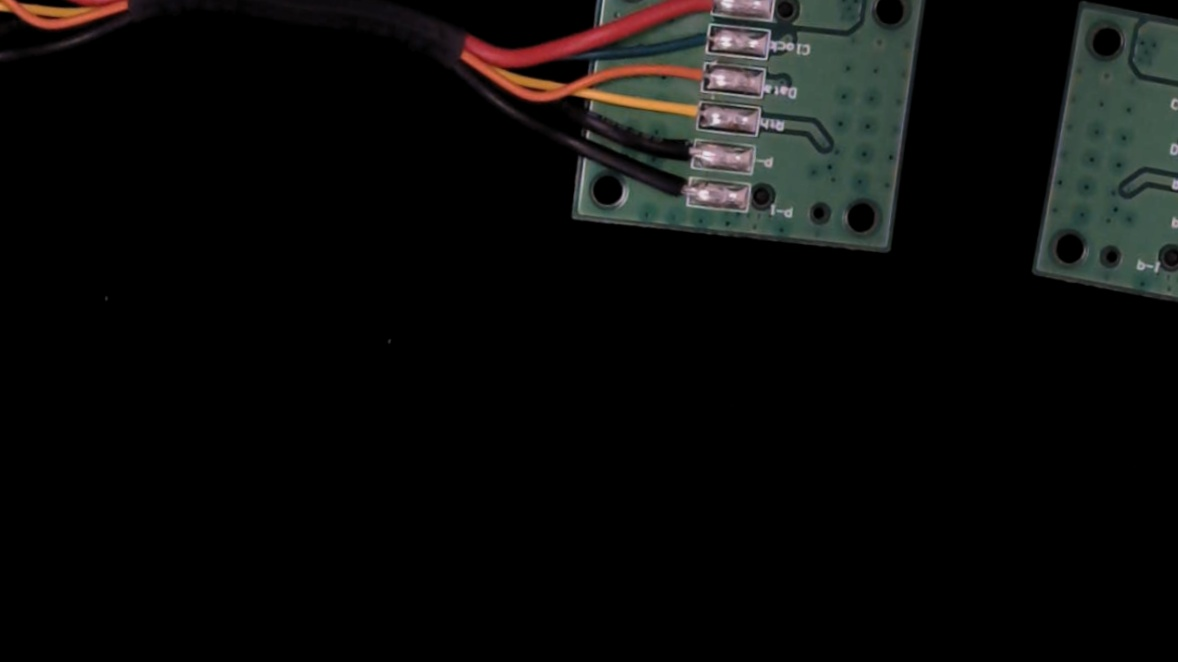Black: (641, 132, 710, 170)
Black1: (638, 170, 707, 212)
Green: (668, 17, 727, 56)
Orange: (662, 55, 724, 94)
Red: (670, 0, 732, 19)
Yellow: (653, 94, 719, 130)
